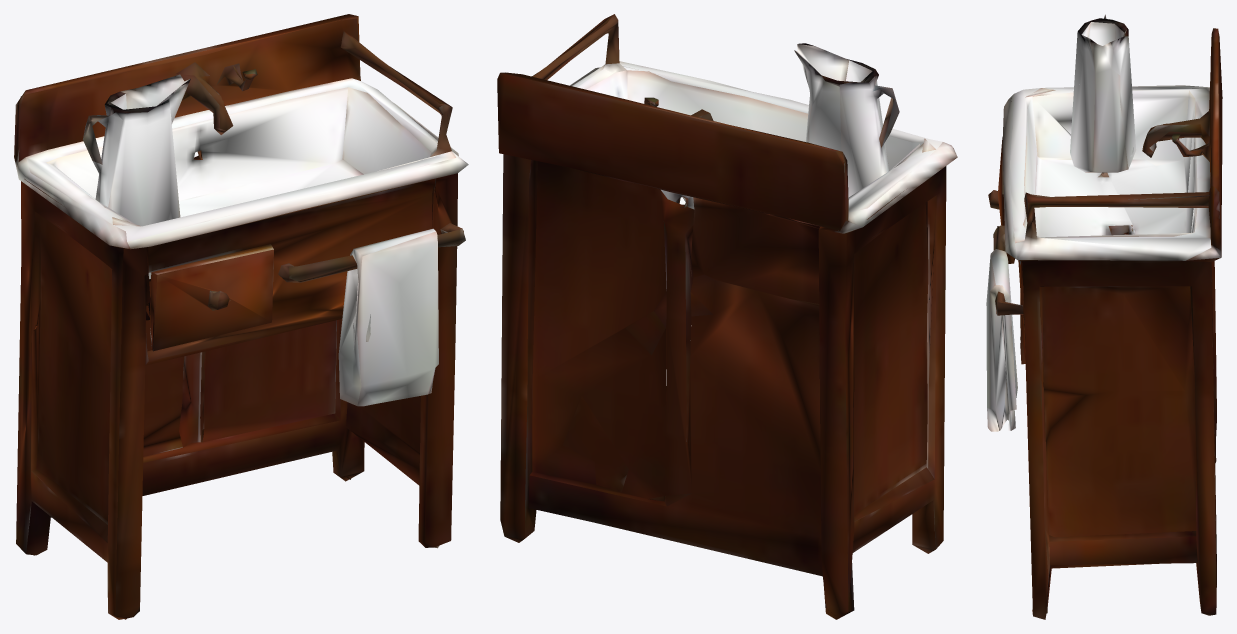
The model's file is lavatorio.movil.glb.
The picture shows the model from 3 angles, left to right: view 1: azimuth 30°, elevation 25°; view 2: azimuth 150°, elevation 25°; view 3: azimuth 270°, elevation 25°; orthographic projection. The views are drawn at different scales.
Parts seen in each view (by area): view 1: geometry_0; view 2: geometry_0; view 3: geometry_0.
Part boxes in pixels (x1,y1,x2,y2): geometry_0: [14, 14, 468, 619]; geometry_0: [497, 14, 957, 619]; geometry_0: [986, 14, 1222, 619].
Size of the model in its own units: 0.7466 by 0.9957 by 0.449.
1 material, 1 textured.
